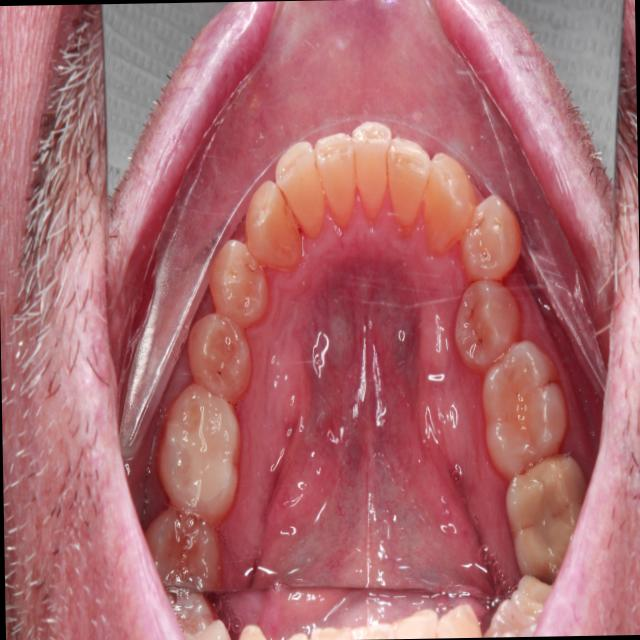tooth: (474, 334, 574, 493), (153, 377, 255, 531), (502, 455, 593, 587), (138, 490, 233, 600), (235, 173, 313, 295), (179, 304, 263, 417), (417, 133, 483, 269), (270, 132, 338, 262), (456, 183, 532, 298), (202, 228, 280, 339), (451, 273, 528, 384), (307, 106, 365, 246), (376, 125, 438, 249), (343, 103, 400, 229)
